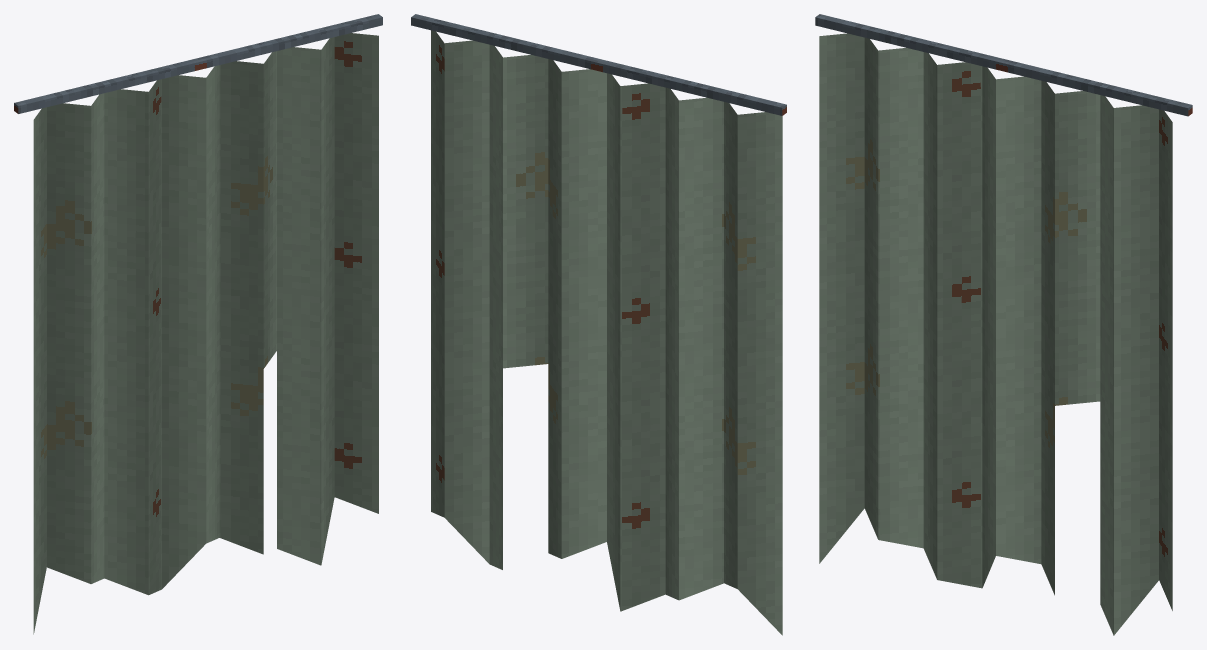
File: curtain.gltf
3 renders of one model, left to right at view 1: azimuth 30°, elevation 25°; view 2: azimuth 150°, elevation 25°; view 3: azimuth 330°, elevation 25°, orthographic. The views are drawn at different scales.
Visible parts, largest first — view 1: curtain; view 2: curtain; view 3: curtain.
Boxes of the visible parts, x1,y1,x2,y2 form: curtain: (14,14,382,634); curtain: (411,14,786,635); curtain: (815,14,1192,635).
Size of the model in its own units: 1.9 by 2.63 by 0.14.
Materials: 2 (2 with a texture image).
